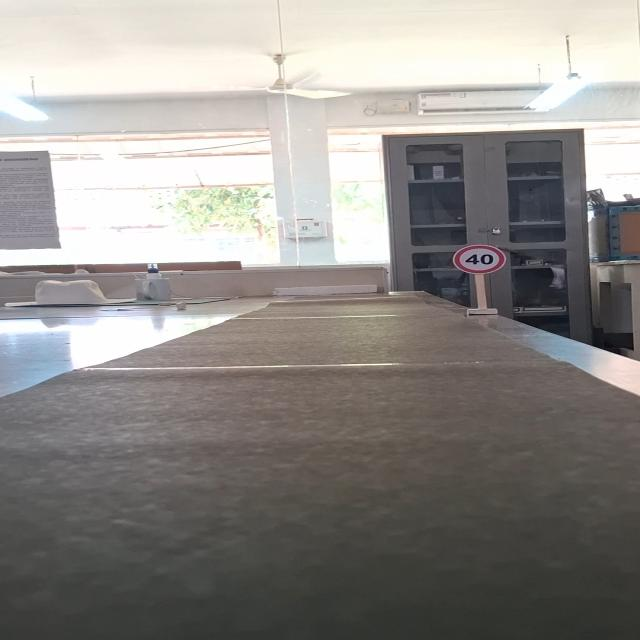Speed40: (449, 244, 507, 275)
